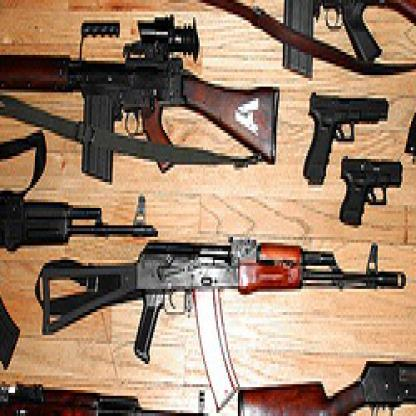gun: (302, 94, 391, 188), (337, 156, 406, 225)
